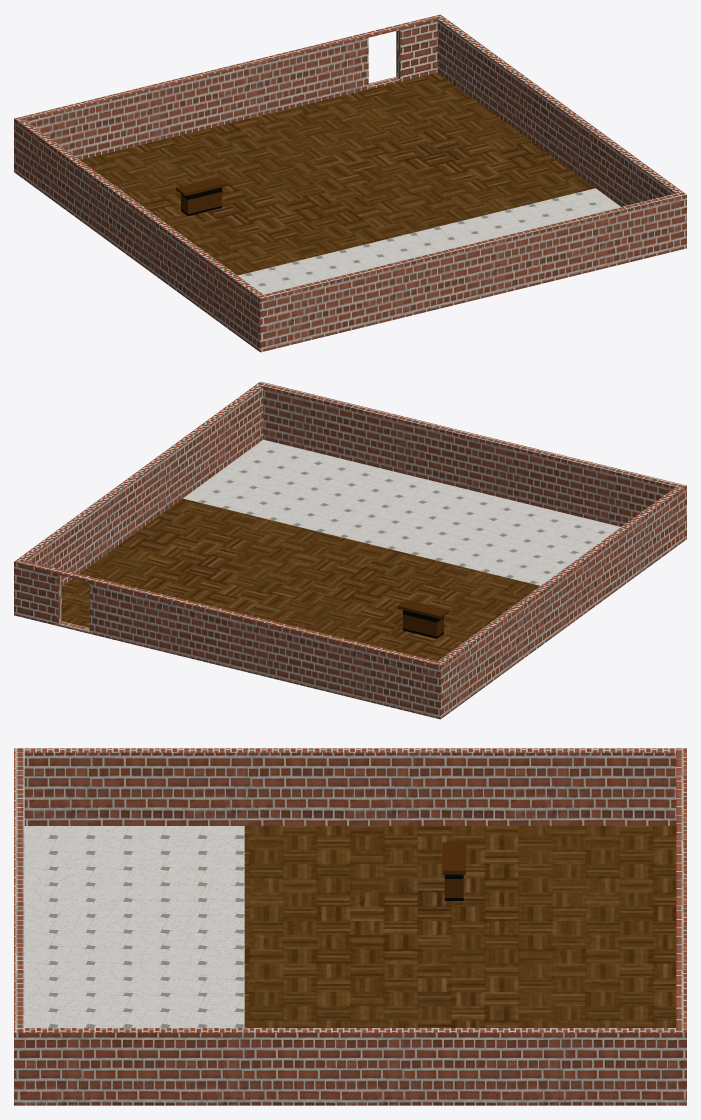
The model's file is shop-model.old.glb.
The picture shows the model from 3 angles, top to bottom: view 1: azimuth 30°, elevation 25°; view 2: azimuth 150°, elevation 25°; view 3: azimuth 270°, elevation 25°; orthographic projection. The views are drawn at different scales.
Visible parts, largest first — view 1: Walls-Outer, Floor, Cube; view 2: Walls-Outer, Floor, Cube; view 3: Floor, Walls-Outer, Cube.
Boxes of the visible parts, left/top/right/bottom form: Walls-Outer: left=14, top=14, right=686, bottom=352; Floor: left=80, top=72, right=620, bottom=294; Cube: left=176, top=177, right=227, bottom=215; Walls-Outer: left=14, top=381, right=686, bottom=719; Floor: left=62, top=439, right=620, bottom=661; Cube: left=397, top=599, right=449, bottom=638; Floor: left=24, top=826, right=676, bottom=1027; Walls-Outer: left=14, top=748, right=686, bottom=1105; Cube: left=442, top=842, right=465, bottom=900.
Size of what is drawn, in the model's own units: 25 by 3 by 25.
5 materials, 3 textured.
